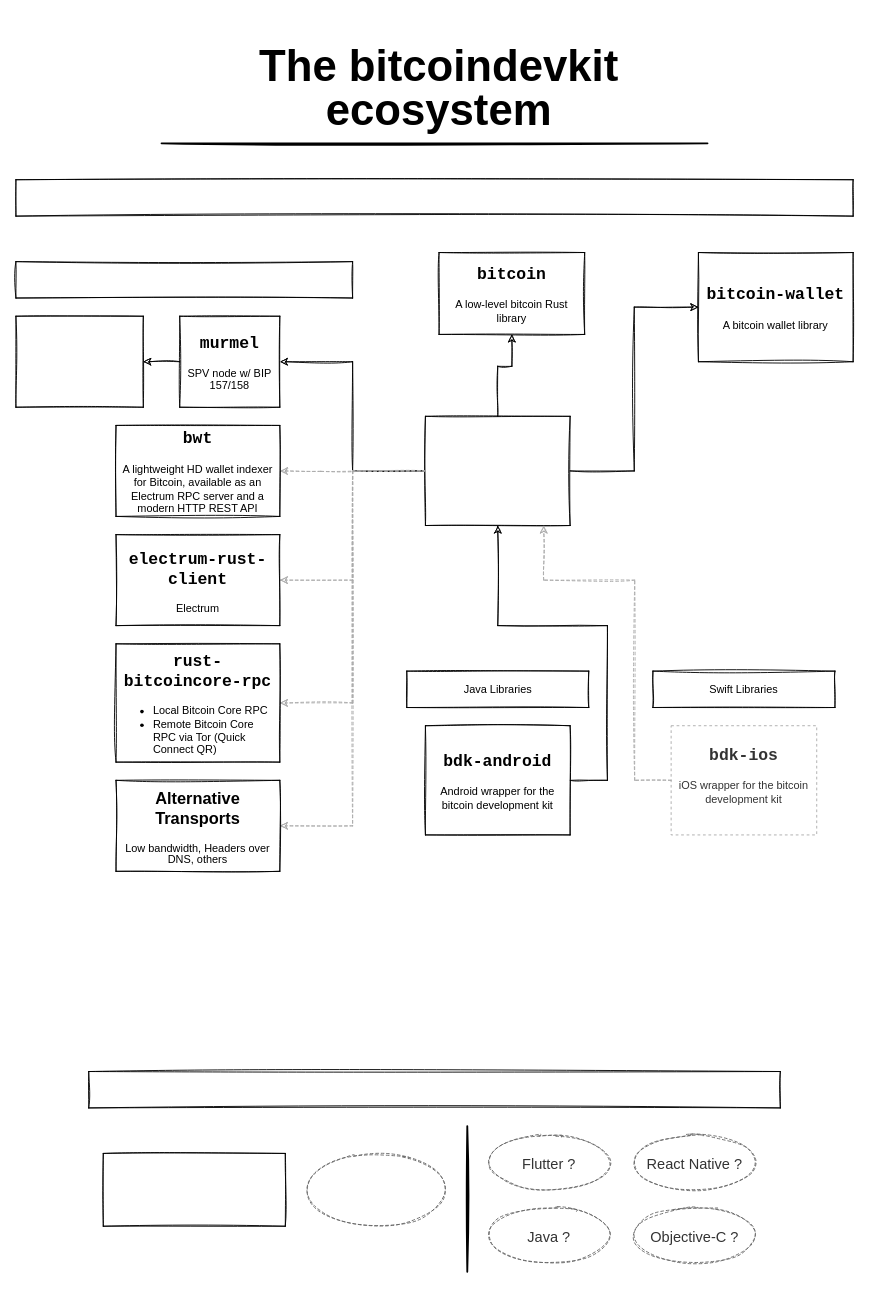
Image size: 869x1289. Some labels were removed from this diagram. Here are the shapes that lost their labels. From the top down, the centre of each, then its label:
[434,197]: Rust Libraries
[184,279]: Block Data Source
[79,361]: hammersbald A fast embedded blockchain database initially written for murmel
[497,470]: bdk Bitcoin Development Kit
[434,1089]: Reference Mobile Apps
[193,1189]: Android (Kotlin)
[376,1189]: iOS (Swift)
